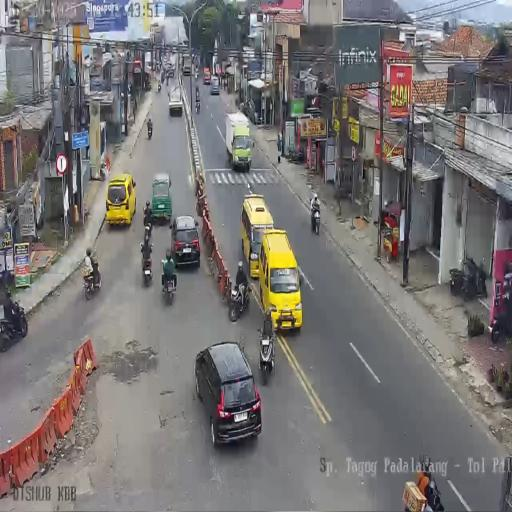3: (224, 112, 252, 172)
car: (195, 343, 263, 448), (258, 230, 302, 329), (106, 174, 137, 227), (171, 214, 201, 268), (150, 172, 172, 223), (168, 85, 183, 115), (164, 54, 174, 78), (210, 76, 220, 95), (182, 54, 191, 75), (203, 67, 211, 85)
truck: (0, 299, 27, 350), (258, 318, 278, 382), (229, 278, 250, 322), (490, 301, 512, 343), (83, 263, 101, 300), (161, 258, 176, 300), (140, 243, 154, 285), (285, 145, 304, 164), (310, 200, 320, 234), (142, 221, 152, 249), (195, 96, 200, 114), (165, 71, 170, 85), (158, 79, 162, 93), (195, 66, 199, 79)
